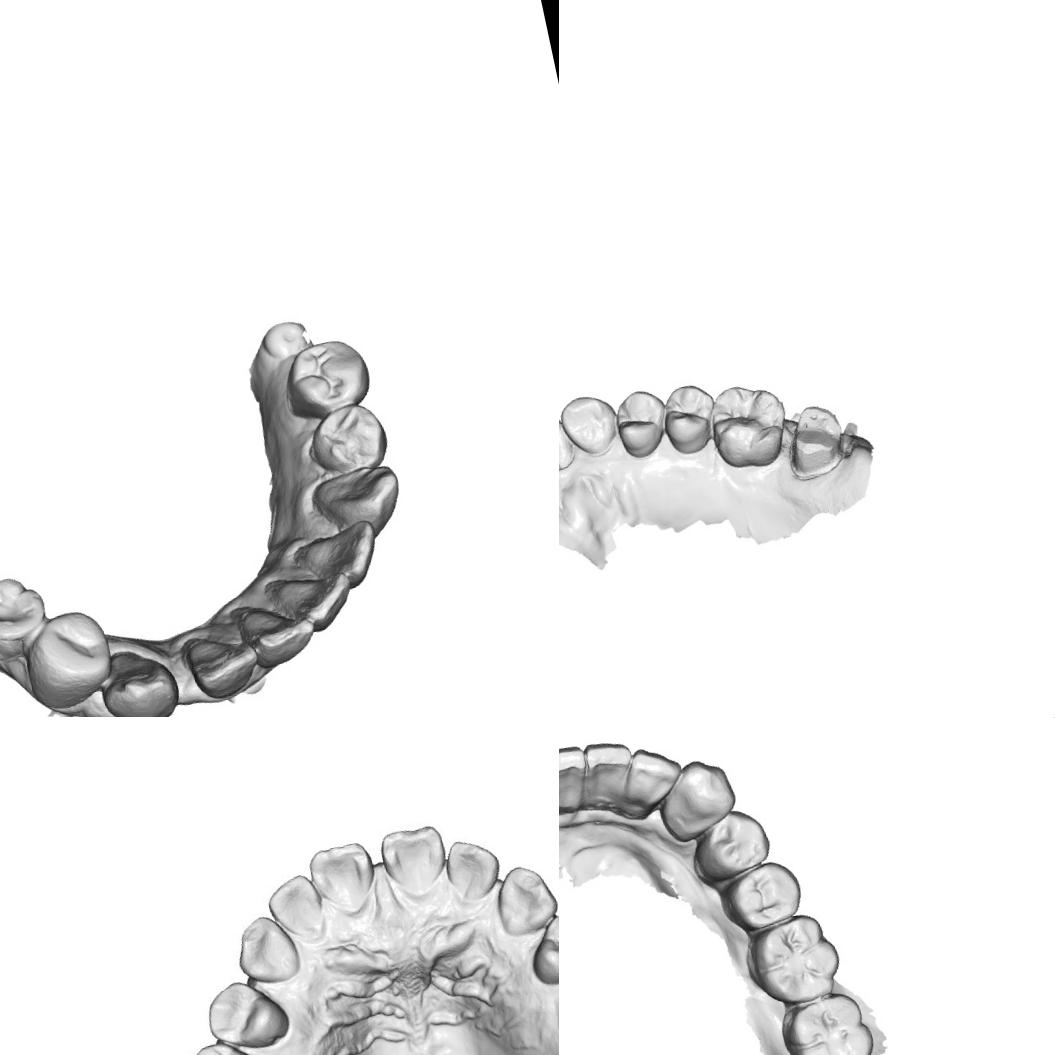canine: (307, 460, 404, 541), (656, 752, 743, 837), (93, 641, 186, 717), (228, 908, 303, 991), (488, 857, 559, 940), (559, 389, 624, 462)
crown: (776, 398, 854, 483)
implant: (257, 315, 312, 362)
incisor: (304, 837, 384, 921), (183, 626, 267, 705), (236, 594, 318, 674), (374, 820, 454, 902), (273, 564, 360, 638), (300, 517, 381, 592), (260, 868, 330, 947), (438, 832, 508, 907), (620, 742, 683, 816), (578, 736, 636, 814), (559, 744, 599, 818), (559, 401, 579, 480)
molar: (740, 905, 851, 1012), (701, 375, 797, 477), (772, 989, 881, 1055)
premolar: (18, 605, 118, 712), (197, 970, 296, 1055), (280, 331, 375, 418), (714, 855, 807, 936), (689, 802, 776, 883), (304, 400, 390, 478), (0, 569, 57, 665), (656, 378, 724, 458), (610, 384, 676, 464), (522, 906, 559, 990), (182, 1030, 271, 1055)
